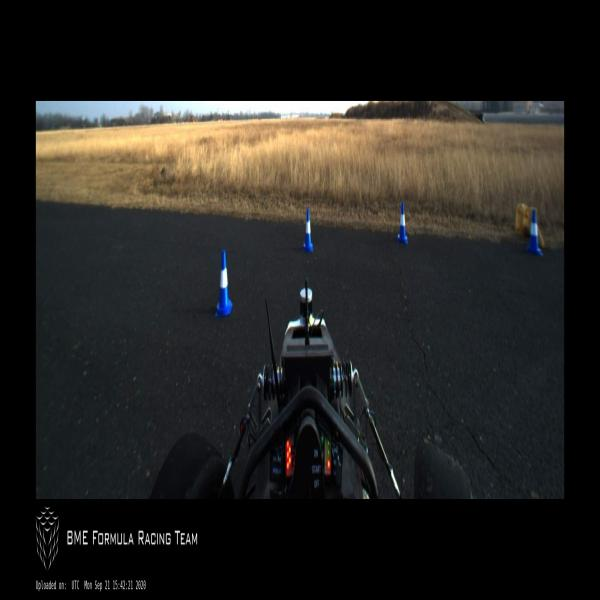blue_cone: (216, 250, 232, 316), (525, 210, 542, 256), (304, 209, 314, 253), (398, 202, 407, 244)
unknown_cone: (524, 207, 545, 247), (514, 203, 528, 237)
